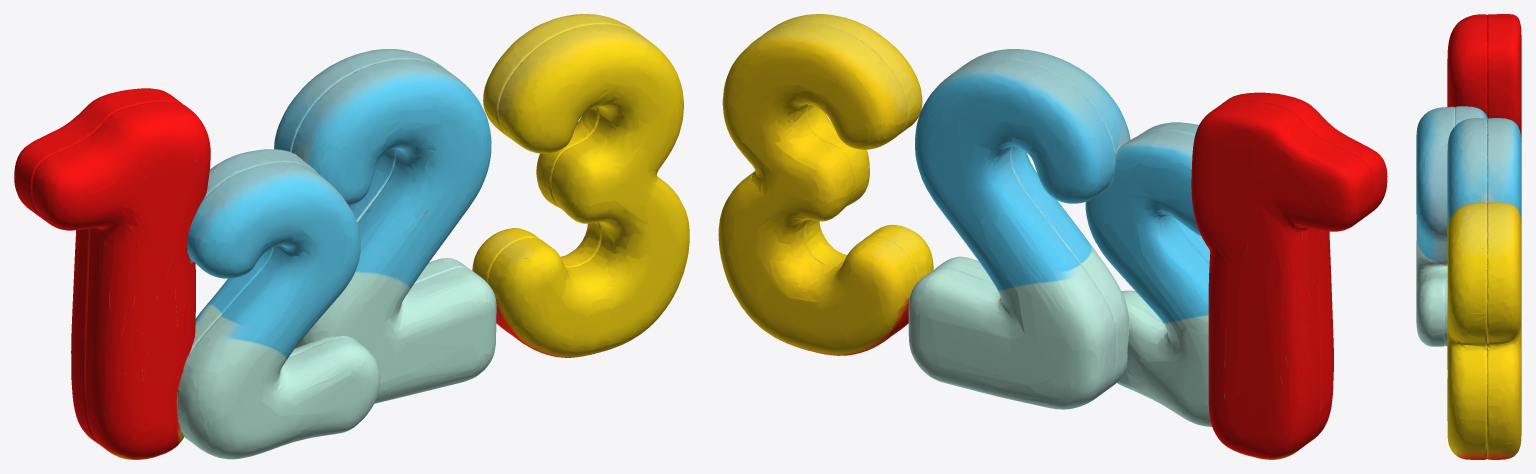
The model's file is meshy-1795642517614.glb.
3 views of the same model, side by side, from view 1: azimuth 30°, elevation 25°; view 2: azimuth 150°, elevation 25°; view 3: azimuth 270°, elevation 25° (orthographic). The views are drawn at different scales.
Size of the model in its own units: 1.9 by 0.9756 by 0.356.
Materials: 1 (1 with a texture image).
